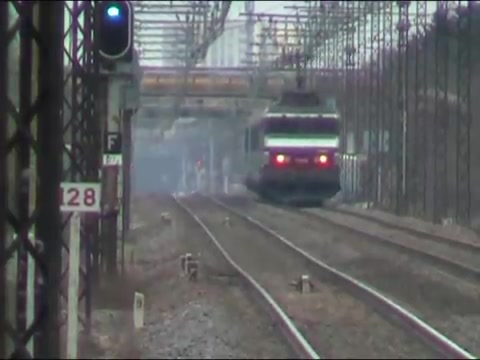train: (241, 91, 347, 199)
